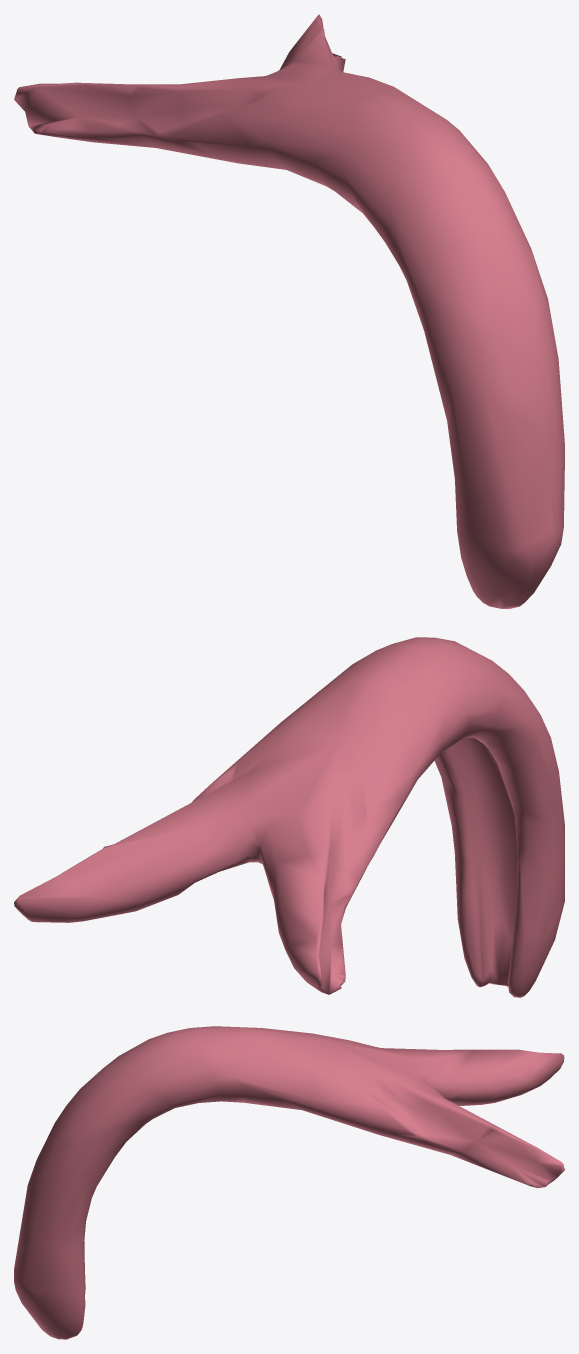
The model's file is Corpus_cavernosum_penis.glb.
The picture shows the model from 3 angles, top to bottom: view 1: azimuth 30°, elevation 25°; view 2: azimuth 150°, elevation 25°; view 3: azimuth 270°, elevation 25°; orthographic projection. The views are drawn at different scales.
Parts seen in each view (by area): view 1: Corpus_cavernosum_of_penis_Generated_Mesh_From_X3D.126; view 2: Corpus_cavernosum_of_penis_Generated_Mesh_From_X3D.126; view 3: Corpus_cavernosum_of_penis_Generated_Mesh_From_X3D.126.
Part boxes in pixels (<box>): Corpus_cavernosum_of_penis_Generated_Mesh_From_X3D.126: <box>14,14,564,608</box>; Corpus_cavernosum_of_penis_Generated_Mesh_From_X3D.126: <box>14,637,564,997</box>; Corpus_cavernosum_of_penis_Generated_Mesh_From_X3D.126: <box>14,1026,564,1339</box>.
Bounding box in the file's own units: 0.0653 × 0.0831 × 0.1355.
